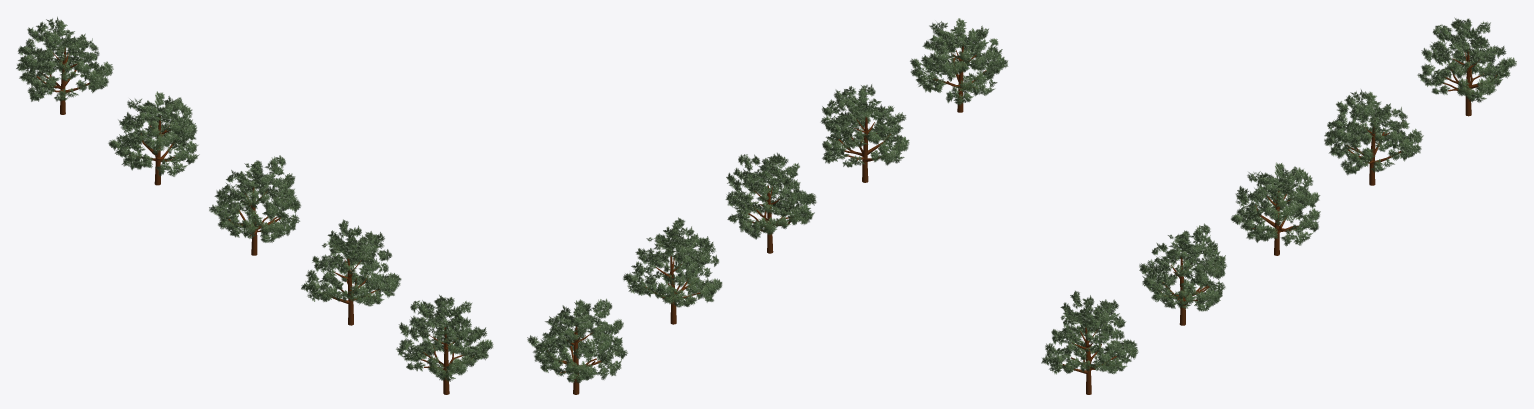
The model's file is treeline.glb.
The picture shows the model from 3 angles, left to right: view 1: azimuth 30°, elevation 25°; view 2: azimuth 150°, elevation 25°; view 3: azimuth 330°, elevation 25°; orthographic projection.
Parts seen in each view (by area): view 1: tree1; view 2: tree1; view 3: tree1.
Boxes of the visible parts, x1,y1,x2,y2 form: tree1: (16, 17, 493, 394); tree1: (527, 18, 1007, 394); tree1: (1041, 17, 1516, 394).
Size of the model in its own units: 14.3 by 13.97 by 114.
2 materials, 1 textured.
